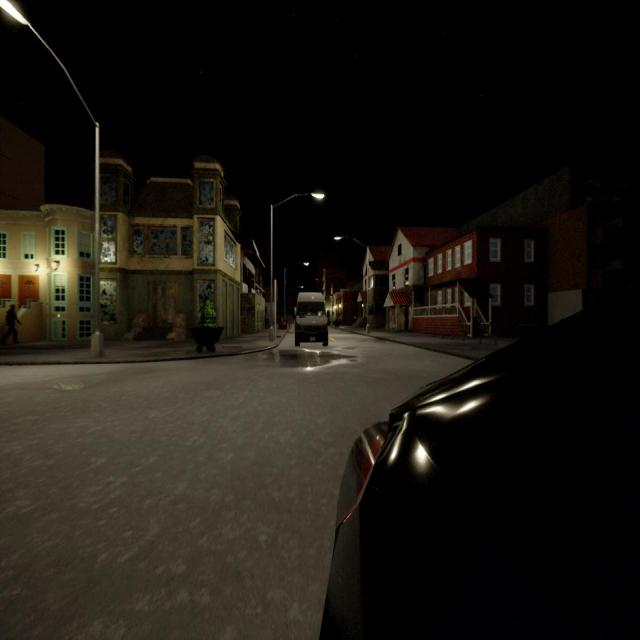Pedestrian: (3, 304, 22, 347)
Vehicle: (319, 282, 640, 640), (294, 292, 329, 348)
